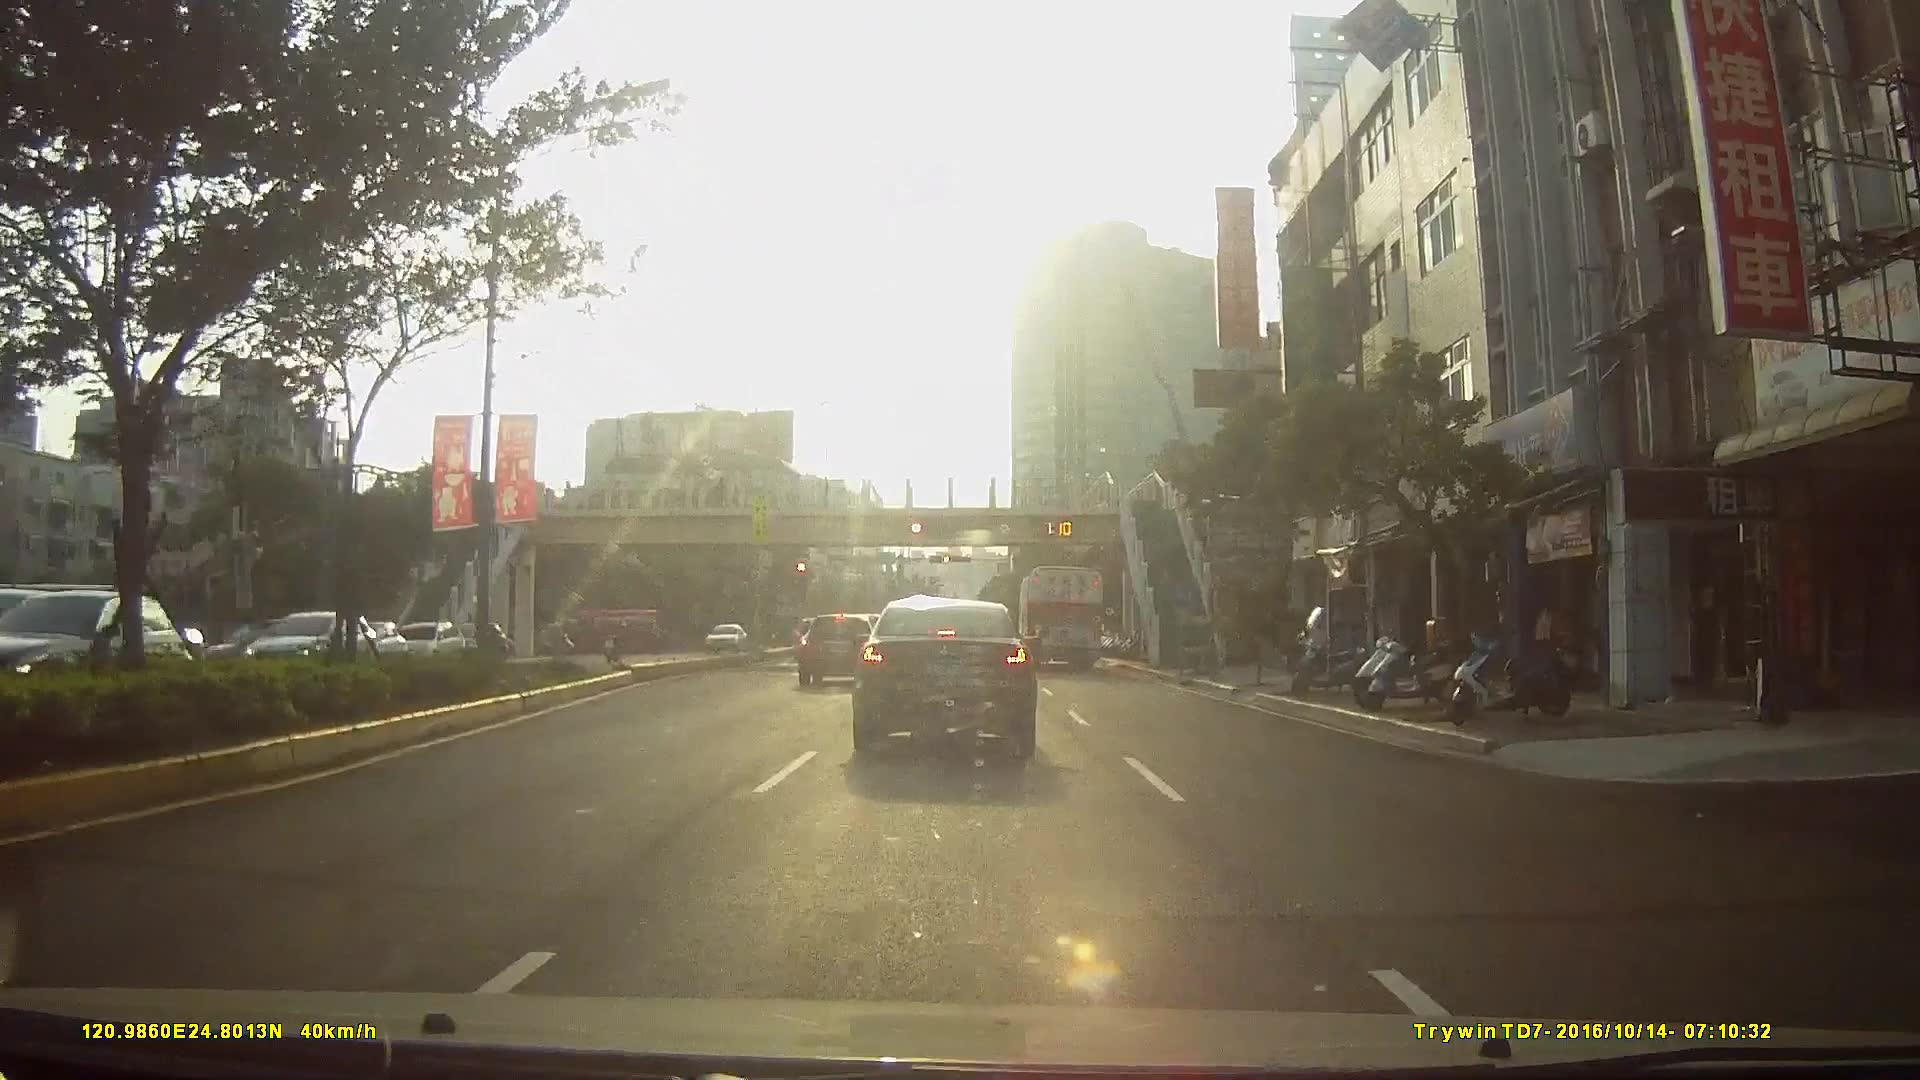rider: (600, 621, 631, 666)
vehicle: (848, 596, 1038, 756), (1014, 562, 1107, 673), (792, 610, 878, 689), (699, 620, 746, 656)
